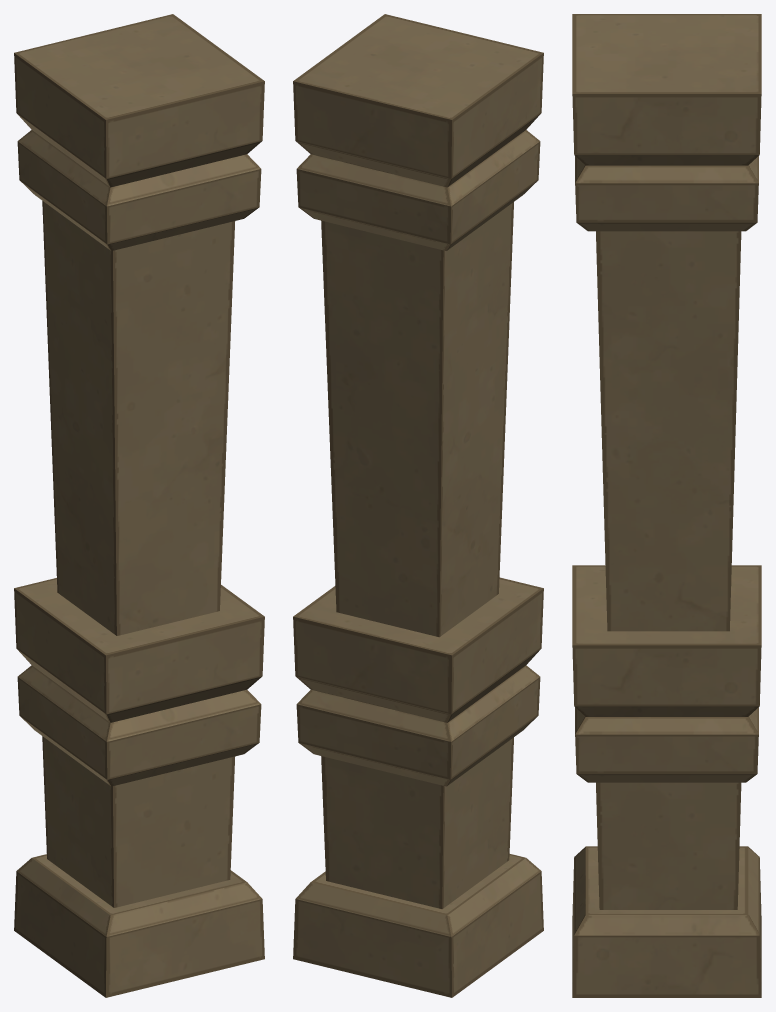
The model's file is SM_building_column_06.glb.
3 views of the same model, side by side, from view 1: azimuth 30°, elevation 25°; view 2: azimuth 150°, elevation 25°; view 3: azimuth 270°, elevation 25° (orthographic). The views are drawn at different scales.
Visible parts, largest first — view 1: SM_building_column_06; view 2: SM_building_column_06; view 3: SM_building_column_06.
Boxes of the visible parts, x1=… form: SM_building_column_06: x1=14, y1=14, x2=264, y2=997; SM_building_column_06: x1=293, y1=14, x2=543, y2=997; SM_building_column_06: x1=572, y1=14, x2=761, y2=997.
Size of the model in its own units: 0.7509 by 3.96 by 0.7509.
1 material, 1 textured.
